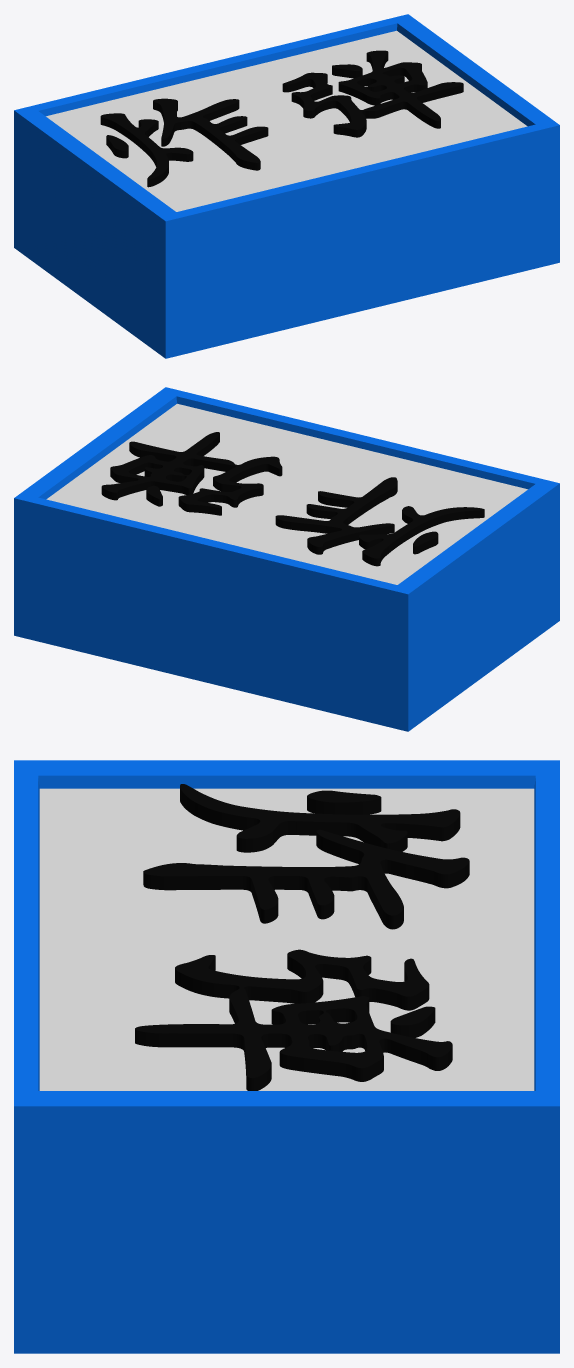
File: ii_zha_dan.fbx
The picture shows the model from 3 angles, top to bottom: view 1: azimuth 30°, elevation 25°; view 2: azimuth 150°, elevation 25°; view 3: azimuth 270°, elevation 25°; orthographic projection. The views are drawn at different scales.
Visible parts, largest first — view 1: Cube, 文本; view 2: Cube, 文本; view 3: Cube, 文本.
Boxes of the visible parts, x1,y1,x2,y2 form: Cube: [14, 14, 559, 358]; 文本: [100, 50, 463, 187]; Cube: [14, 387, 559, 731]; 文本: [101, 432, 484, 566]; Cube: [14, 760, 559, 1353]; 文本: [135, 784, 469, 1090].
Size of the model in its own units: 240 by 80.47 by 160.
